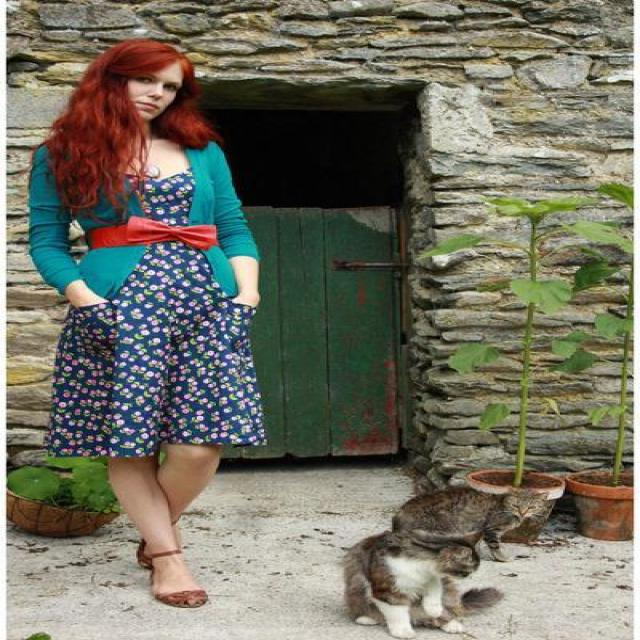dress: (19, 172, 261, 458)
jacket: (6, 142, 258, 293)
shoe: (134, 539, 208, 607)
